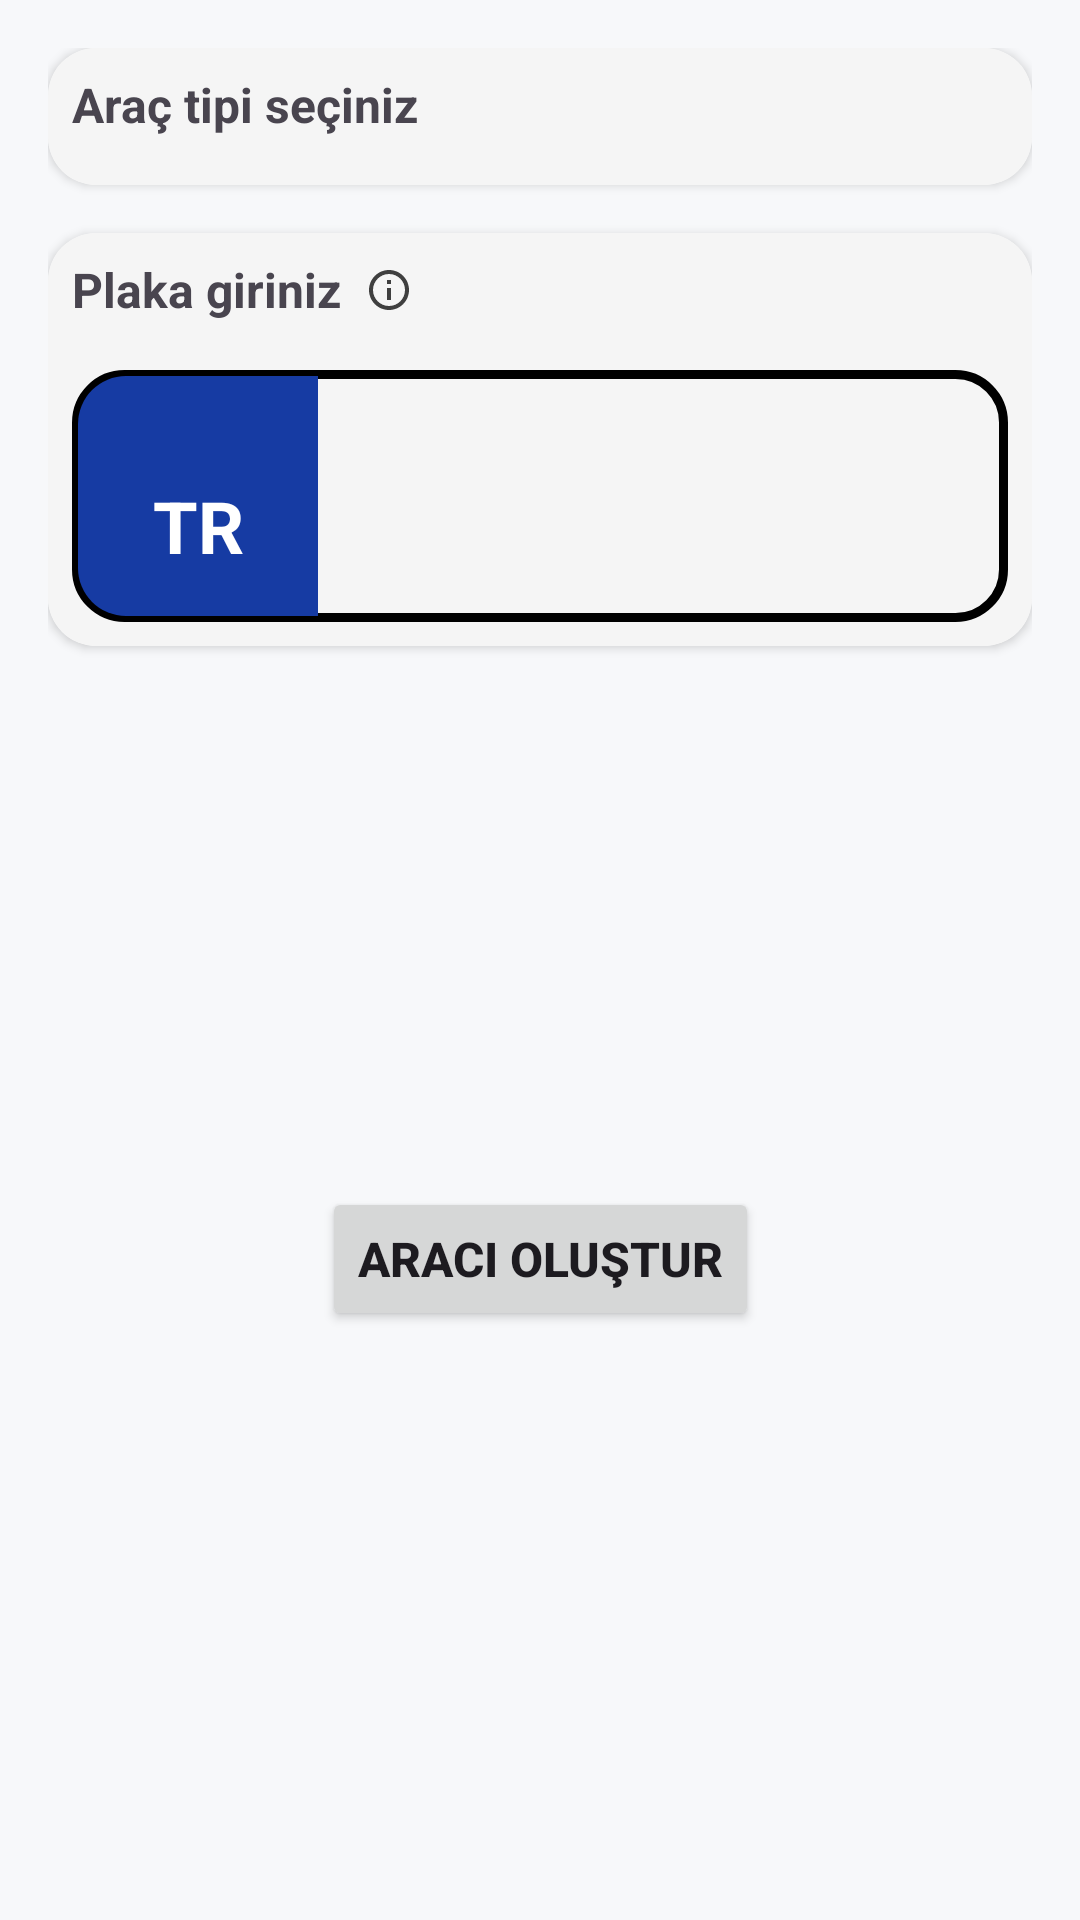

Named icons in this screenshot (1080w x 1920h) and their bounding boxes, (x1, y1, x2, y2):
info: (369, 270, 409, 310)
